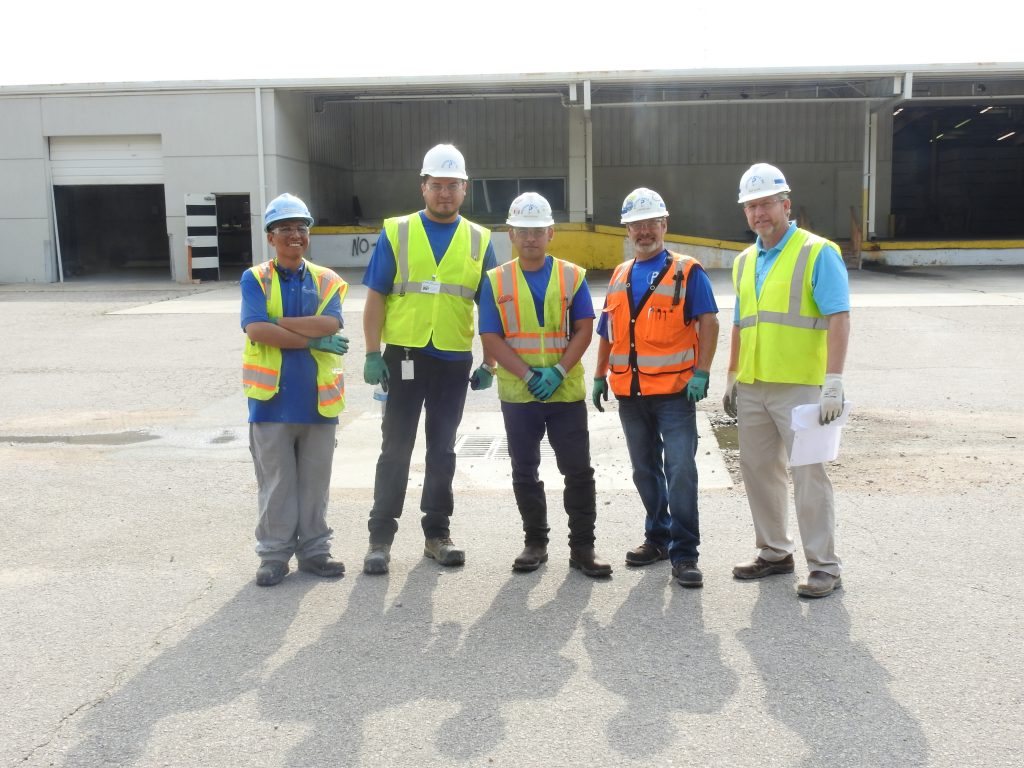Helmet: (730, 158, 803, 247), (258, 190, 318, 281), (502, 188, 561, 272), (612, 184, 675, 261), (414, 137, 469, 223)
Reflective vest: (732, 226, 847, 389), (242, 254, 348, 423), (373, 206, 488, 360), (485, 254, 592, 408), (601, 250, 708, 400)
